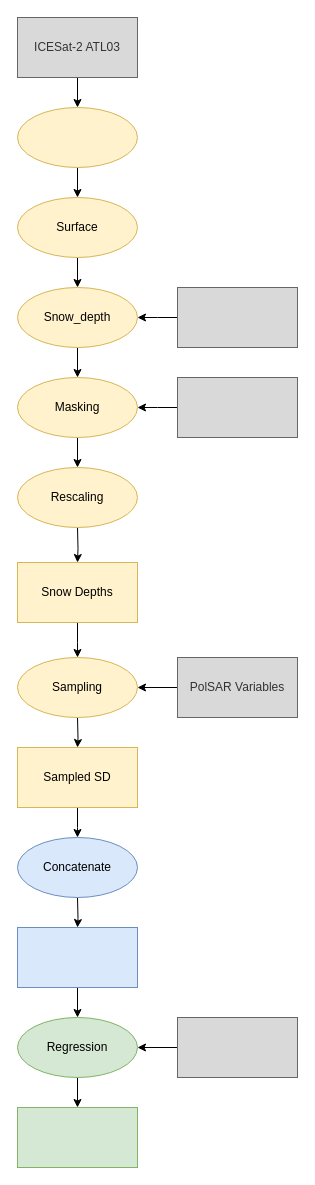
This 315x1185 diagram has some shape labels left out. Each missing label, with the centre of its shape:
DEM: pixel 237 317
Load_ATL03: pixel 77 137
Masks: pixel 237 407
Prediction Data: pixel 237 1047
SD Map: pixel 77 1137
Training Data: pixel 77 957
